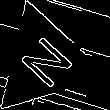N_SE: (12, 30, 78, 94)
